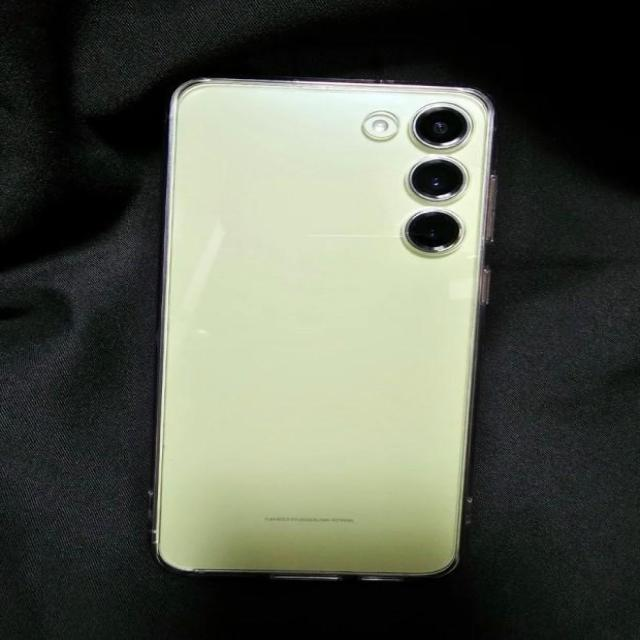mobile: (150, 76, 502, 582)
